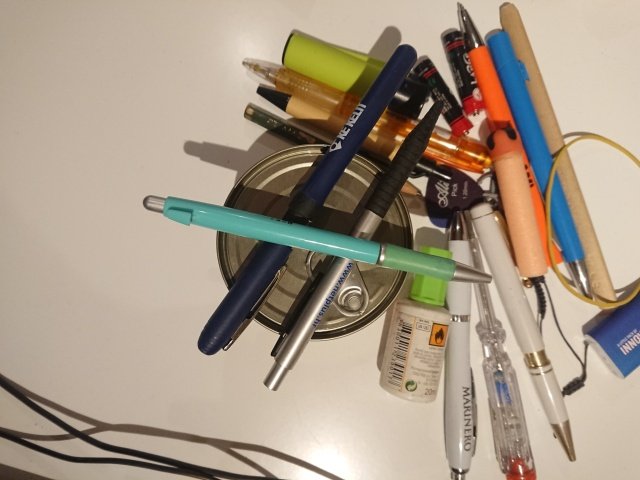Giana Tuna Salad Mexico 185g: (212, 140, 418, 344)
